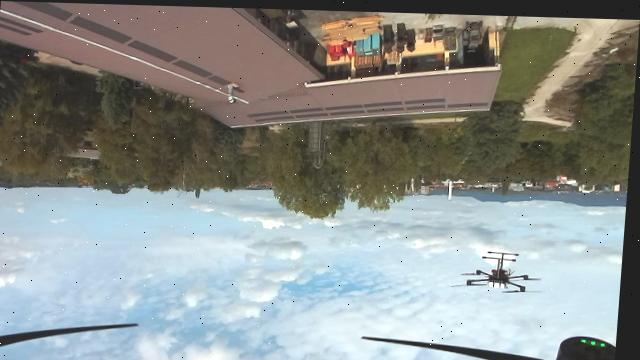drone: (456, 237, 546, 299)
